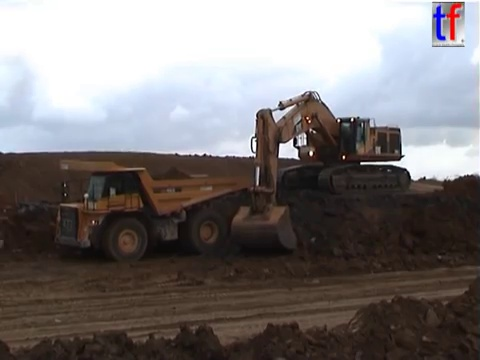excavator: (227, 87, 414, 255)
truck: (52, 157, 258, 264)
